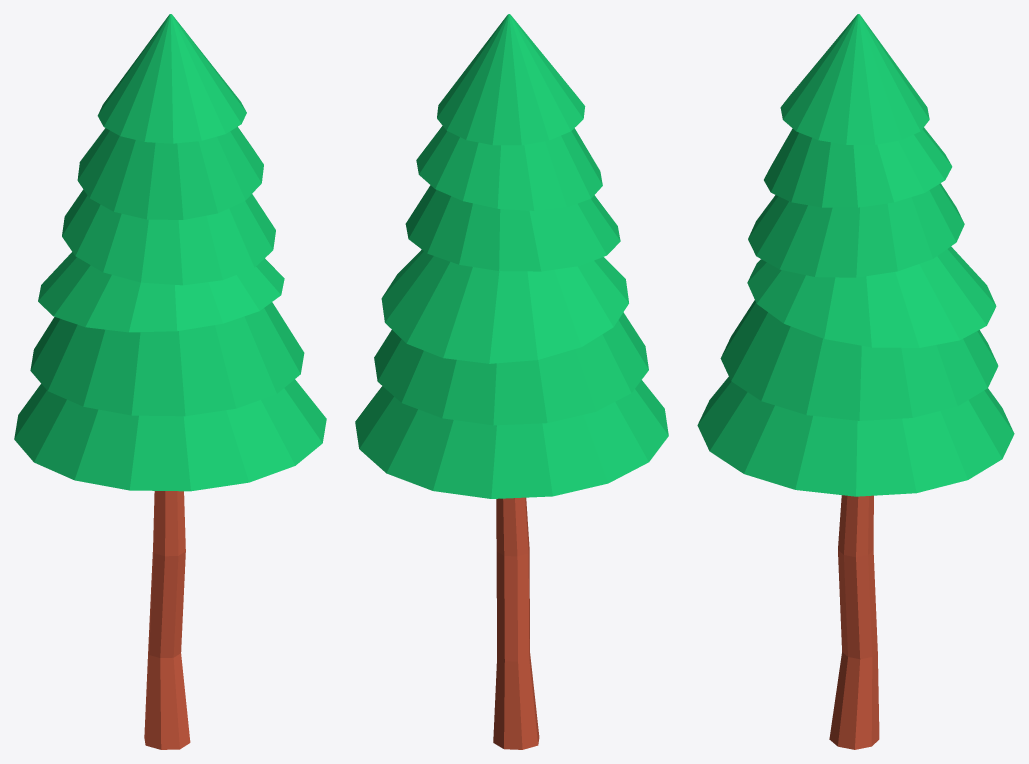
The model's file is pinetree2.fbx.
The picture shows the model from 3 angles, left to right: view 1: azimuth 30°, elevation 25°; view 2: azimuth 150°, elevation 25°; view 3: azimuth 270°, elevation 25°; orthographic projection.
Parts seen in each view (by area): view 1: Cube, Cube.001; view 2: Cube, Cube.001; view 3: Cube, Cube.001.
Boxes of the visible parts, left/top/right/bottom form: Cube: left=14, top=14, right=326, bottom=491; Cube.001: left=144, top=491, right=190, bottom=749; Cube: left=355, top=14, right=668, bottom=498; Cube.001: left=493, top=497, right=539, bottom=749; Cube: left=697, top=14, right=1014, bottom=496; Cube.001: left=829, top=495, right=879, bottom=749.
Bounding box in the file's own units: 716 × 1812 × 716.
